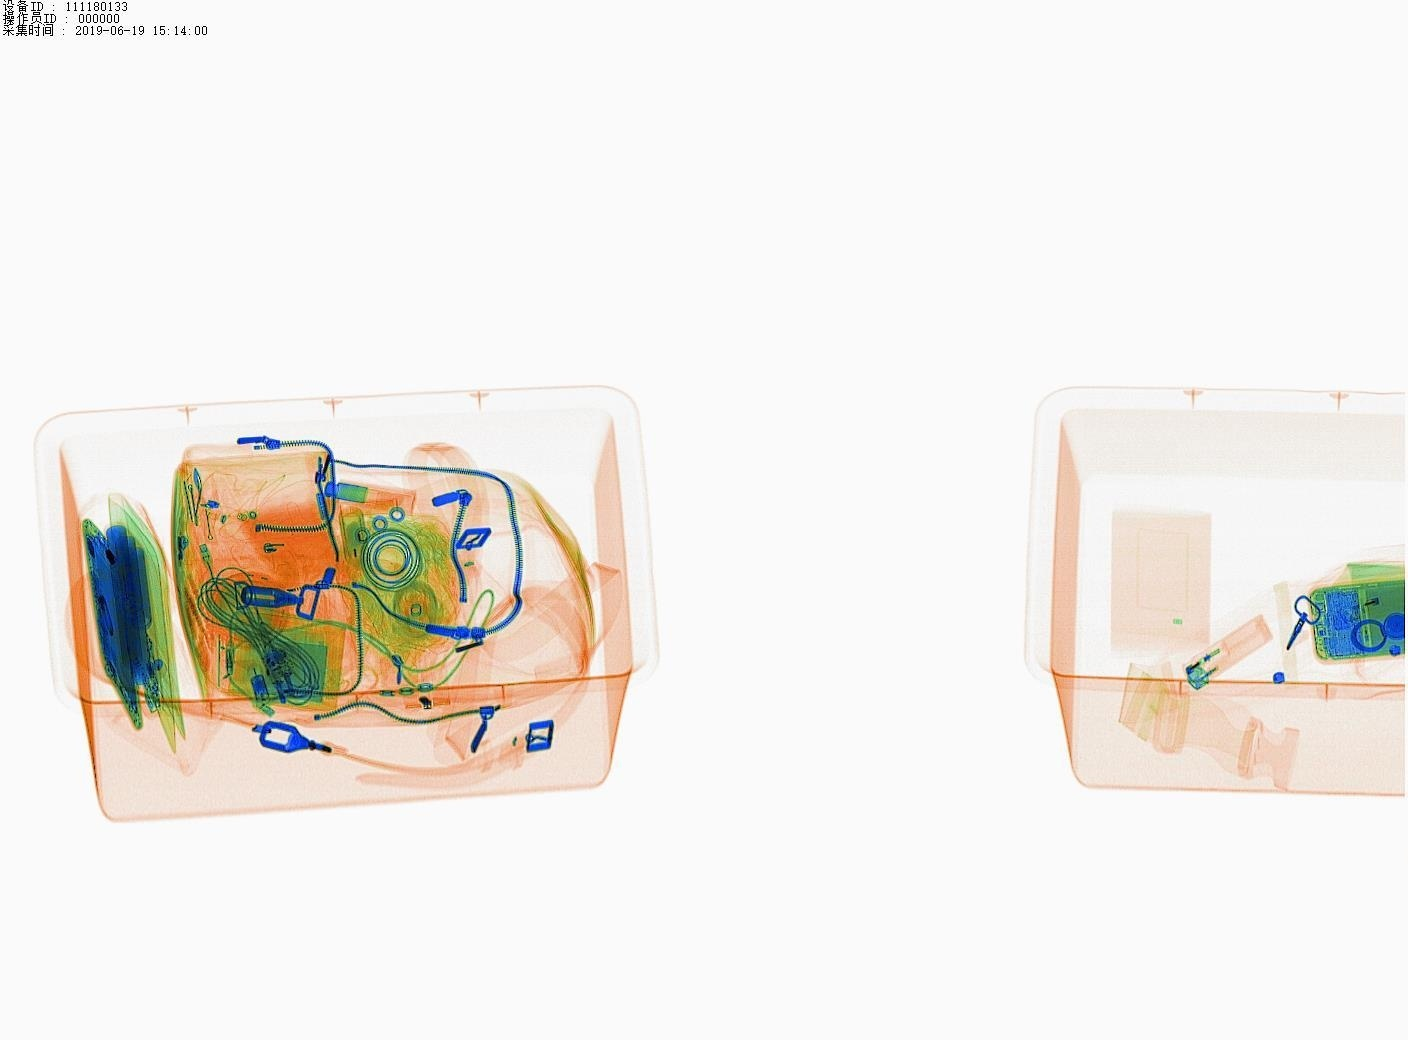NonmetallicFire: (1173, 611, 1268, 697)
